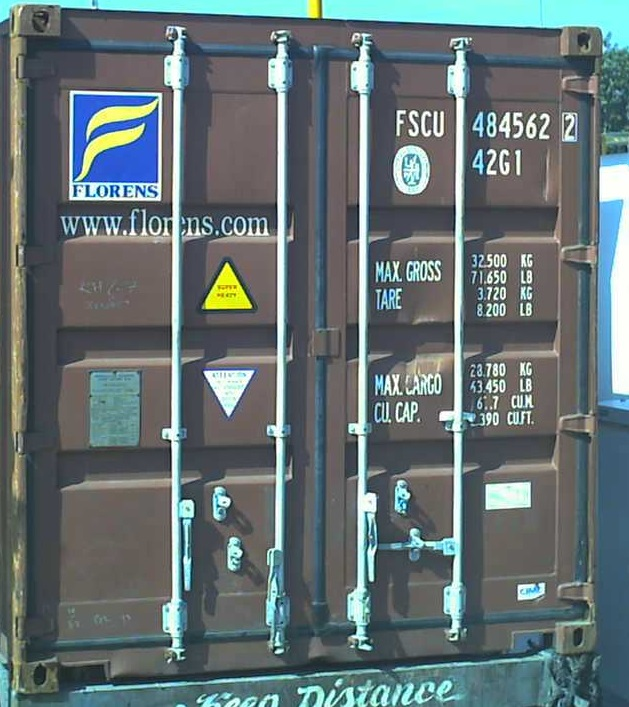container_door: (16, 2, 594, 692)
